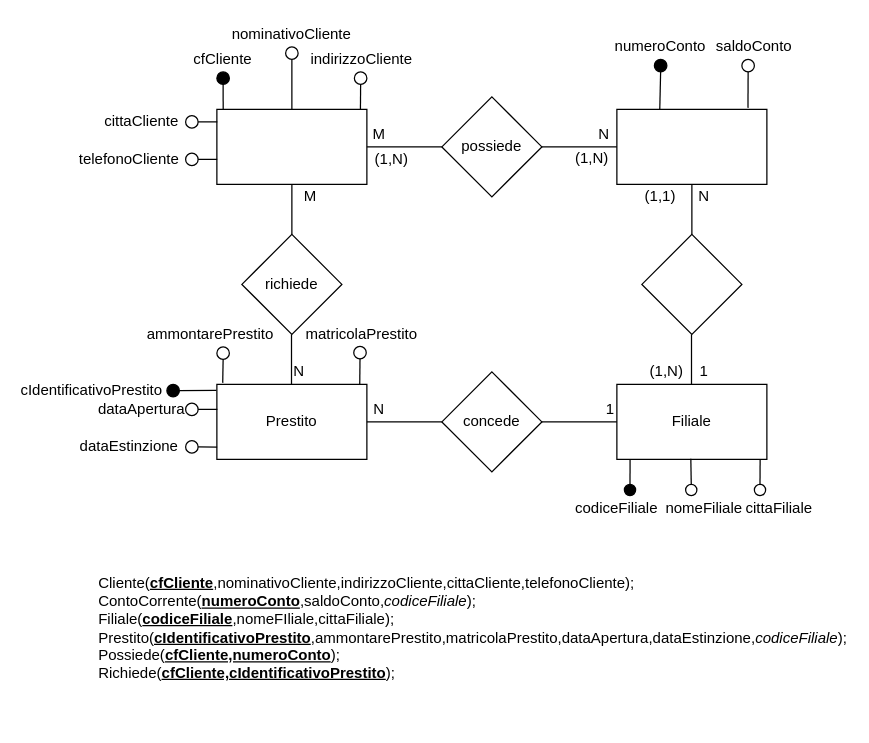
Some shapes in this 869 by 743 pixel diagram are drawn without their labels. Each missing label, with the centre of its shape:
Cliente: (291,146)
ContoCorrente: (691,146)
gestisce: (691,283)
